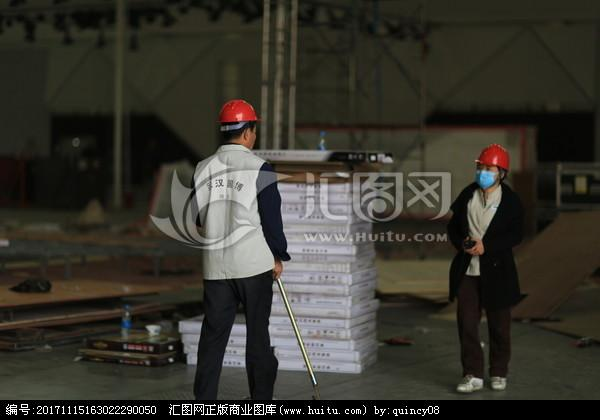helmet: (215, 100, 262, 124), (474, 145, 513, 170)
